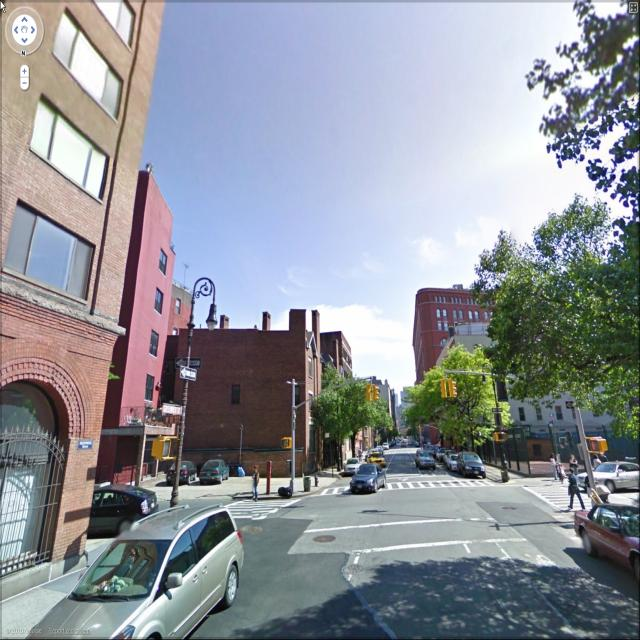b_1: (1, 1, 164, 530), (162, 300, 331, 478), (106, 170, 171, 466)
b_2: (443, 321, 640, 464), (412, 282, 538, 379), (323, 329, 377, 458)
